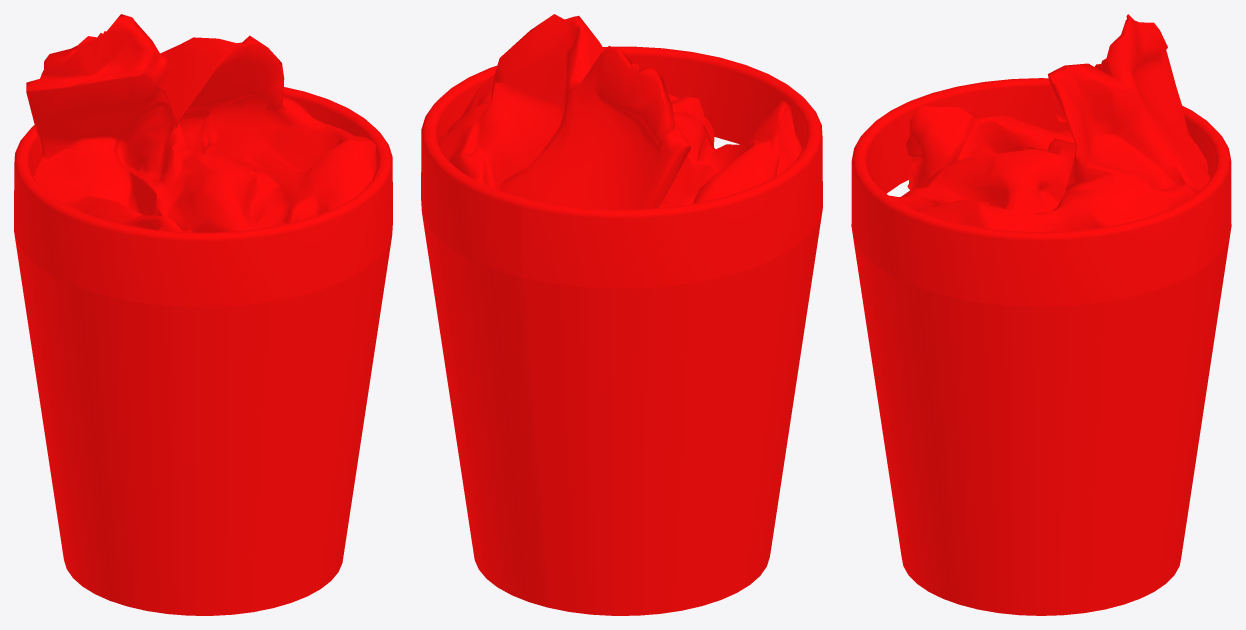
File: SM_Bin.glb
The picture shows the model from 3 angles, left to right: view 1: azimuth 30°, elevation 25°; view 2: azimuth 150°, elevation 25°; view 3: azimuth 270°, elevation 25°; orthographic projection. The views are drawn at different scales.
Parts seen in each view (by area): view 1: SM_Bin; view 2: SM_Bin; view 3: SM_Bin.
Part boxes in pixels (x1,y1,x2,y2): SM_Bin: (14, 14, 392, 615); SM_Bin: (421, 14, 822, 615); SM_Bin: (851, 14, 1231, 615).
Size of what is drawn, in the model's own units: 0.4649 by 0.701 by 0.4649.
1 material, 1 textured.
